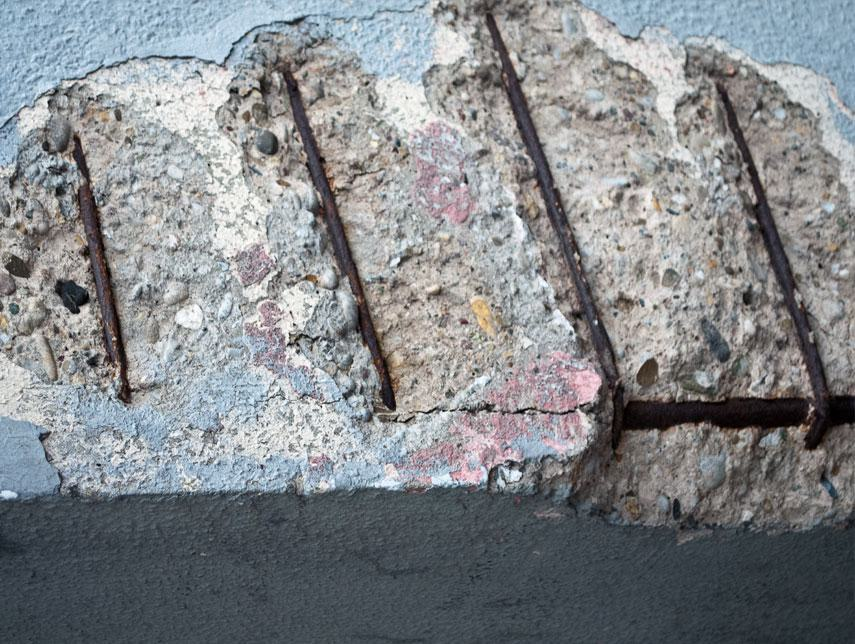Crack: (390, 403, 579, 424)
Exposed reinforcement: (484, 12, 628, 456), (714, 80, 833, 452), (282, 69, 397, 412), (71, 134, 132, 404), (620, 393, 855, 435)
Spalling: (1, 1, 855, 536)
